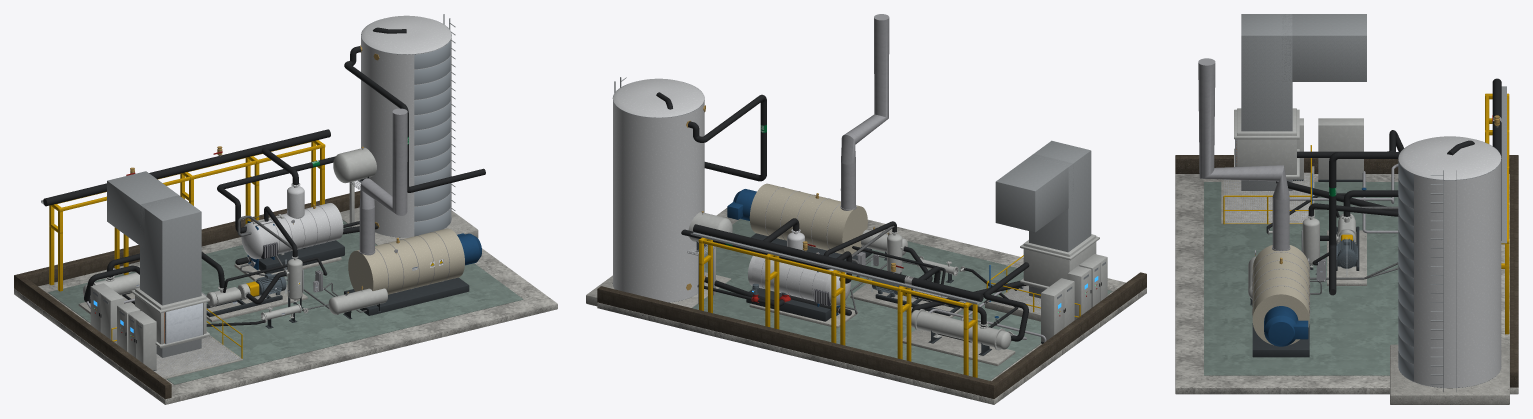
The model's file is industrial_hthp.glb.
The picture shows the model from 3 angles, left to right: view 1: azimuth 30°, elevation 25°; view 2: azimuth 150°, elevation 25°; view 3: azimuth 270°, elevation 25°; orthographic projection. The views are drawn at different scales.
Visible parts, largest first — view 1: Room_Slab, Steam_ExhaustDuct, Dairy_Store, Gas_Boiler, Steam_Generator, Dairy_Pipework, Pipe_Rack, MCC_Lineup, Steam_Header, Dairy_Sump, Steam_Pipework, Dairy_Compressor (+16 smaller); view 2: Room_Slab, Dairy_Store, Steam_ExhaustDuct, Gas_Boiler, Pipe_Rack, Dairy_Pipework, Steam_Generator, MCC_Lineup, Steam_Header, Steam_Pipework, Dairy_Evaporator, Dairy_Sump (+3 smaller); view 3: Room_Slab, Dairy_Store, Steam_ExhaustDuct, Gas_Boiler, Dairy_Pipework, Dairy_Sump, MCC_Lineup, Pipe_Rack, Steam_Pipework, Dairy_Compressor, Dairy_OilSep, Steam_Header.
Boxes of the visible parts, box(x1,y1,x2,y2) form: Room_Slab: box(14, 191, 557, 404); Steam_ExhaustDuct: box(107, 171, 209, 357); Dairy_Store: box(340, 14, 478, 245); Gas_Boiler: box(344, 108, 481, 315); Steam_Generator: box(241, 183, 344, 273); Dairy_Pipework: box(86, 27, 485, 326); Pipe_Rack: box(41, 140, 325, 291); MCC_Lineup: box(90, 283, 156, 370); Steam_Header: box(43, 129, 330, 206); Dairy_Sump: box(111, 308, 242, 379); Steam_Pipework: box(84, 147, 359, 314); Dairy_Compressor: box(206, 273, 286, 317); Room_Slab: box(597, 208, 1146, 404); Dairy_Store: box(586, 77, 730, 307); Steam_ExhaustDuct: box(995, 140, 1099, 298); Gas_Boiler: box(727, 14, 889, 263); Pipe_Rack: box(690, 232, 980, 377); Dairy_Pipework: box(656, 92, 1046, 342); Steam_Generator: box(746, 229, 850, 321); MCC_Lineup: box(1041, 254, 1107, 343); Steam_Header: box(693, 224, 983, 301); Steam_Pipework: box(697, 218, 1029, 341); Dairy_Evaporator: box(911, 309, 1013, 355); Dairy_Sump: box(985, 255, 1080, 321); Room_Slab: box(1175, 155, 1518, 394); Dairy_Store: box(1390, 136, 1509, 404); Steam_ExhaustDuct: box(1234, 14, 1366, 190); Gas_Boiler: box(1198, 58, 1310, 357); Dairy_Pipework: box(1266, 140, 1474, 295); Dairy_Sump: box(1221, 145, 1314, 224); MCC_Lineup: box(1293, 118, 1363, 181); Pipe_Rack: box(1485, 86, 1509, 334); Steam_Pipework: box(1276, 130, 1403, 279); Dairy_Compressor: box(1336, 213, 1359, 270); Dairy_OilSep: box(1301, 215, 1319, 274); Steam_Header: box(1492, 78, 1501, 240).
Size of the model in its own units: 18.7 by 9.85 by 12.
Materials: 38 (32 with a texture image).
